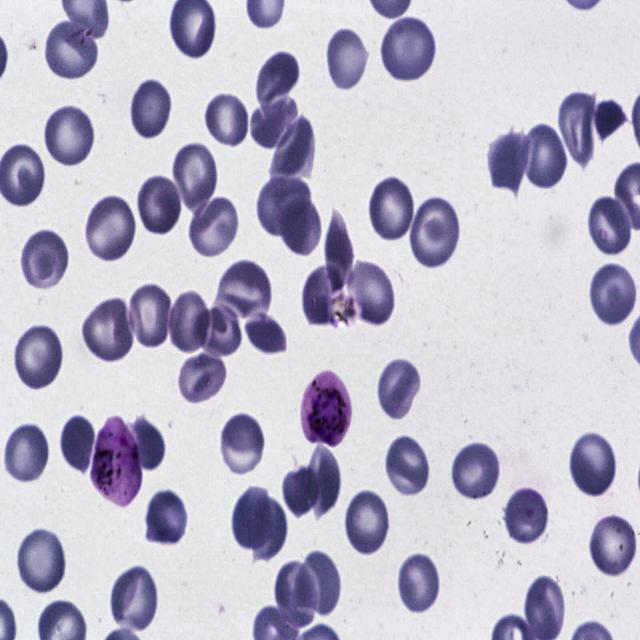difficult: (90, 415, 142, 506)
red blood cell: (84, 192, 139, 266), (170, 136, 220, 217), (380, 13, 438, 81), (42, 14, 100, 82), (409, 196, 462, 269), (81, 294, 139, 360), (12, 321, 66, 391), (42, 100, 96, 169), (15, 526, 68, 595), (255, 176, 314, 237), (588, 258, 640, 327), (346, 258, 396, 329), (217, 260, 273, 323), (343, 486, 392, 556), (271, 558, 320, 628), (126, 280, 174, 351), (110, 564, 160, 632), (520, 120, 568, 190), (368, 174, 416, 244), (190, 193, 240, 259), (232, 483, 281, 550), (588, 514, 640, 577), (570, 429, 618, 496), (268, 114, 316, 181), (451, 438, 502, 501), (2, 420, 51, 485), (20, 228, 70, 291), (220, 409, 266, 477), (254, 47, 302, 112), (303, 442, 341, 524), (136, 171, 184, 235), (586, 192, 634, 256), (558, 92, 598, 168), (326, 23, 370, 92), (296, 552, 342, 618), (486, 124, 530, 193), (192, 298, 243, 357), (504, 484, 550, 549), (128, 76, 174, 141), (251, 92, 300, 152), (522, 573, 566, 639), (168, 286, 210, 355), (384, 436, 432, 496), (302, 262, 346, 327), (377, 357, 423, 418), (278, 195, 324, 256), (324, 204, 354, 296), (246, 494, 288, 558), (397, 552, 441, 613), (204, 91, 250, 149), (143, 490, 190, 545), (178, 353, 226, 406), (58, 414, 96, 478), (280, 461, 322, 516), (243, 306, 288, 356), (128, 414, 166, 472), (594, 99, 630, 140)
schizont: (300, 372, 352, 449)
